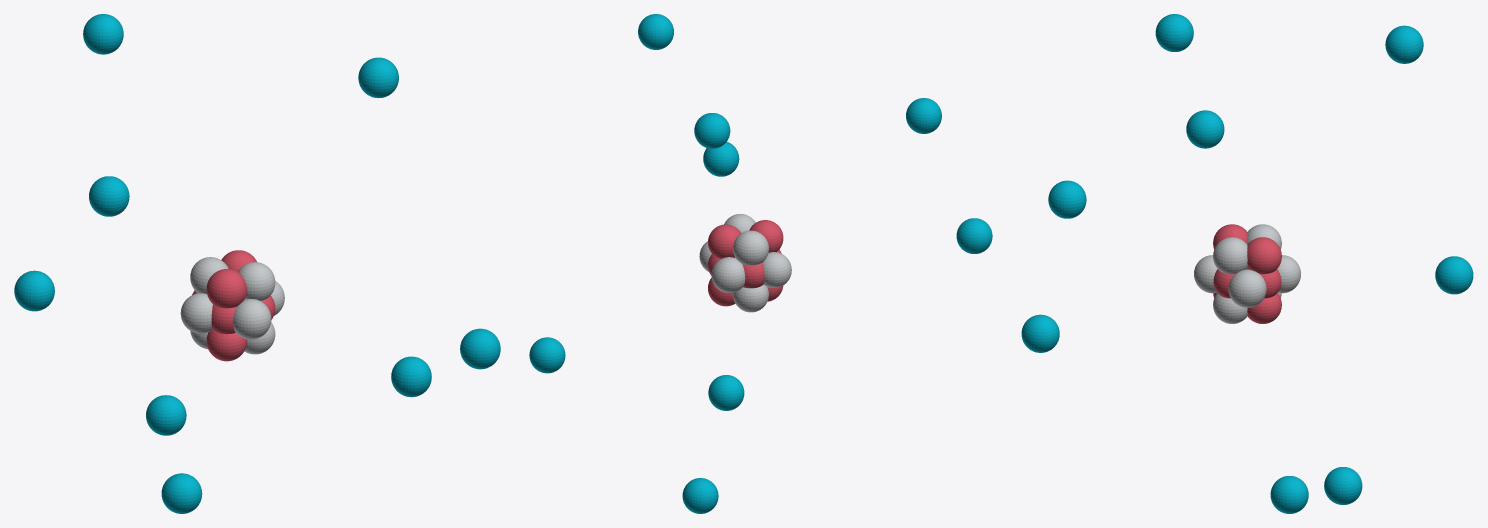
Rendered from rutherford.glb.
3 renders of one model, left to right at view 1: azimuth 30°, elevation 25°; view 2: azimuth 150°, elevation 25°; view 3: azimuth 270°, elevation 25°, orthographic. The views are drawn at different scales.
Visible parts, largest first — view 1: Mesh_Mesh_head_geo.001_lambert2SG.001; view 2: Mesh_Mesh_head_geo.001_lambert2SG.001; view 3: Mesh_Mesh_head_geo.001_lambert2SG.001.
Part boxes in pixels (x1,y1,x2,y2): Mesh_Mesh_head_geo.001_lambert2SG.001: (14, 14, 500, 513); Mesh_Mesh_head_geo.001_lambert2SG.001: (529, 14, 992, 513); Mesh_Mesh_head_geo.001_lambert2SG.001: (1021, 14, 1473, 513).
Bounding box in the file's own units: 113 × 131 × 118.
